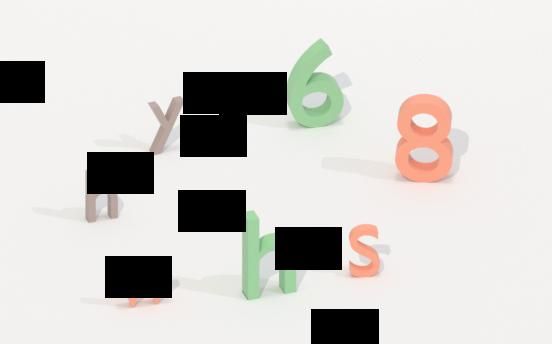6: (284, 35, 346, 132)
8: (395, 92, 455, 186)
Y: (145, 94, 187, 158)
h: (238, 209, 300, 303), (85, 165, 119, 225)
s: (347, 222, 381, 282)
w: (111, 261, 176, 309)
